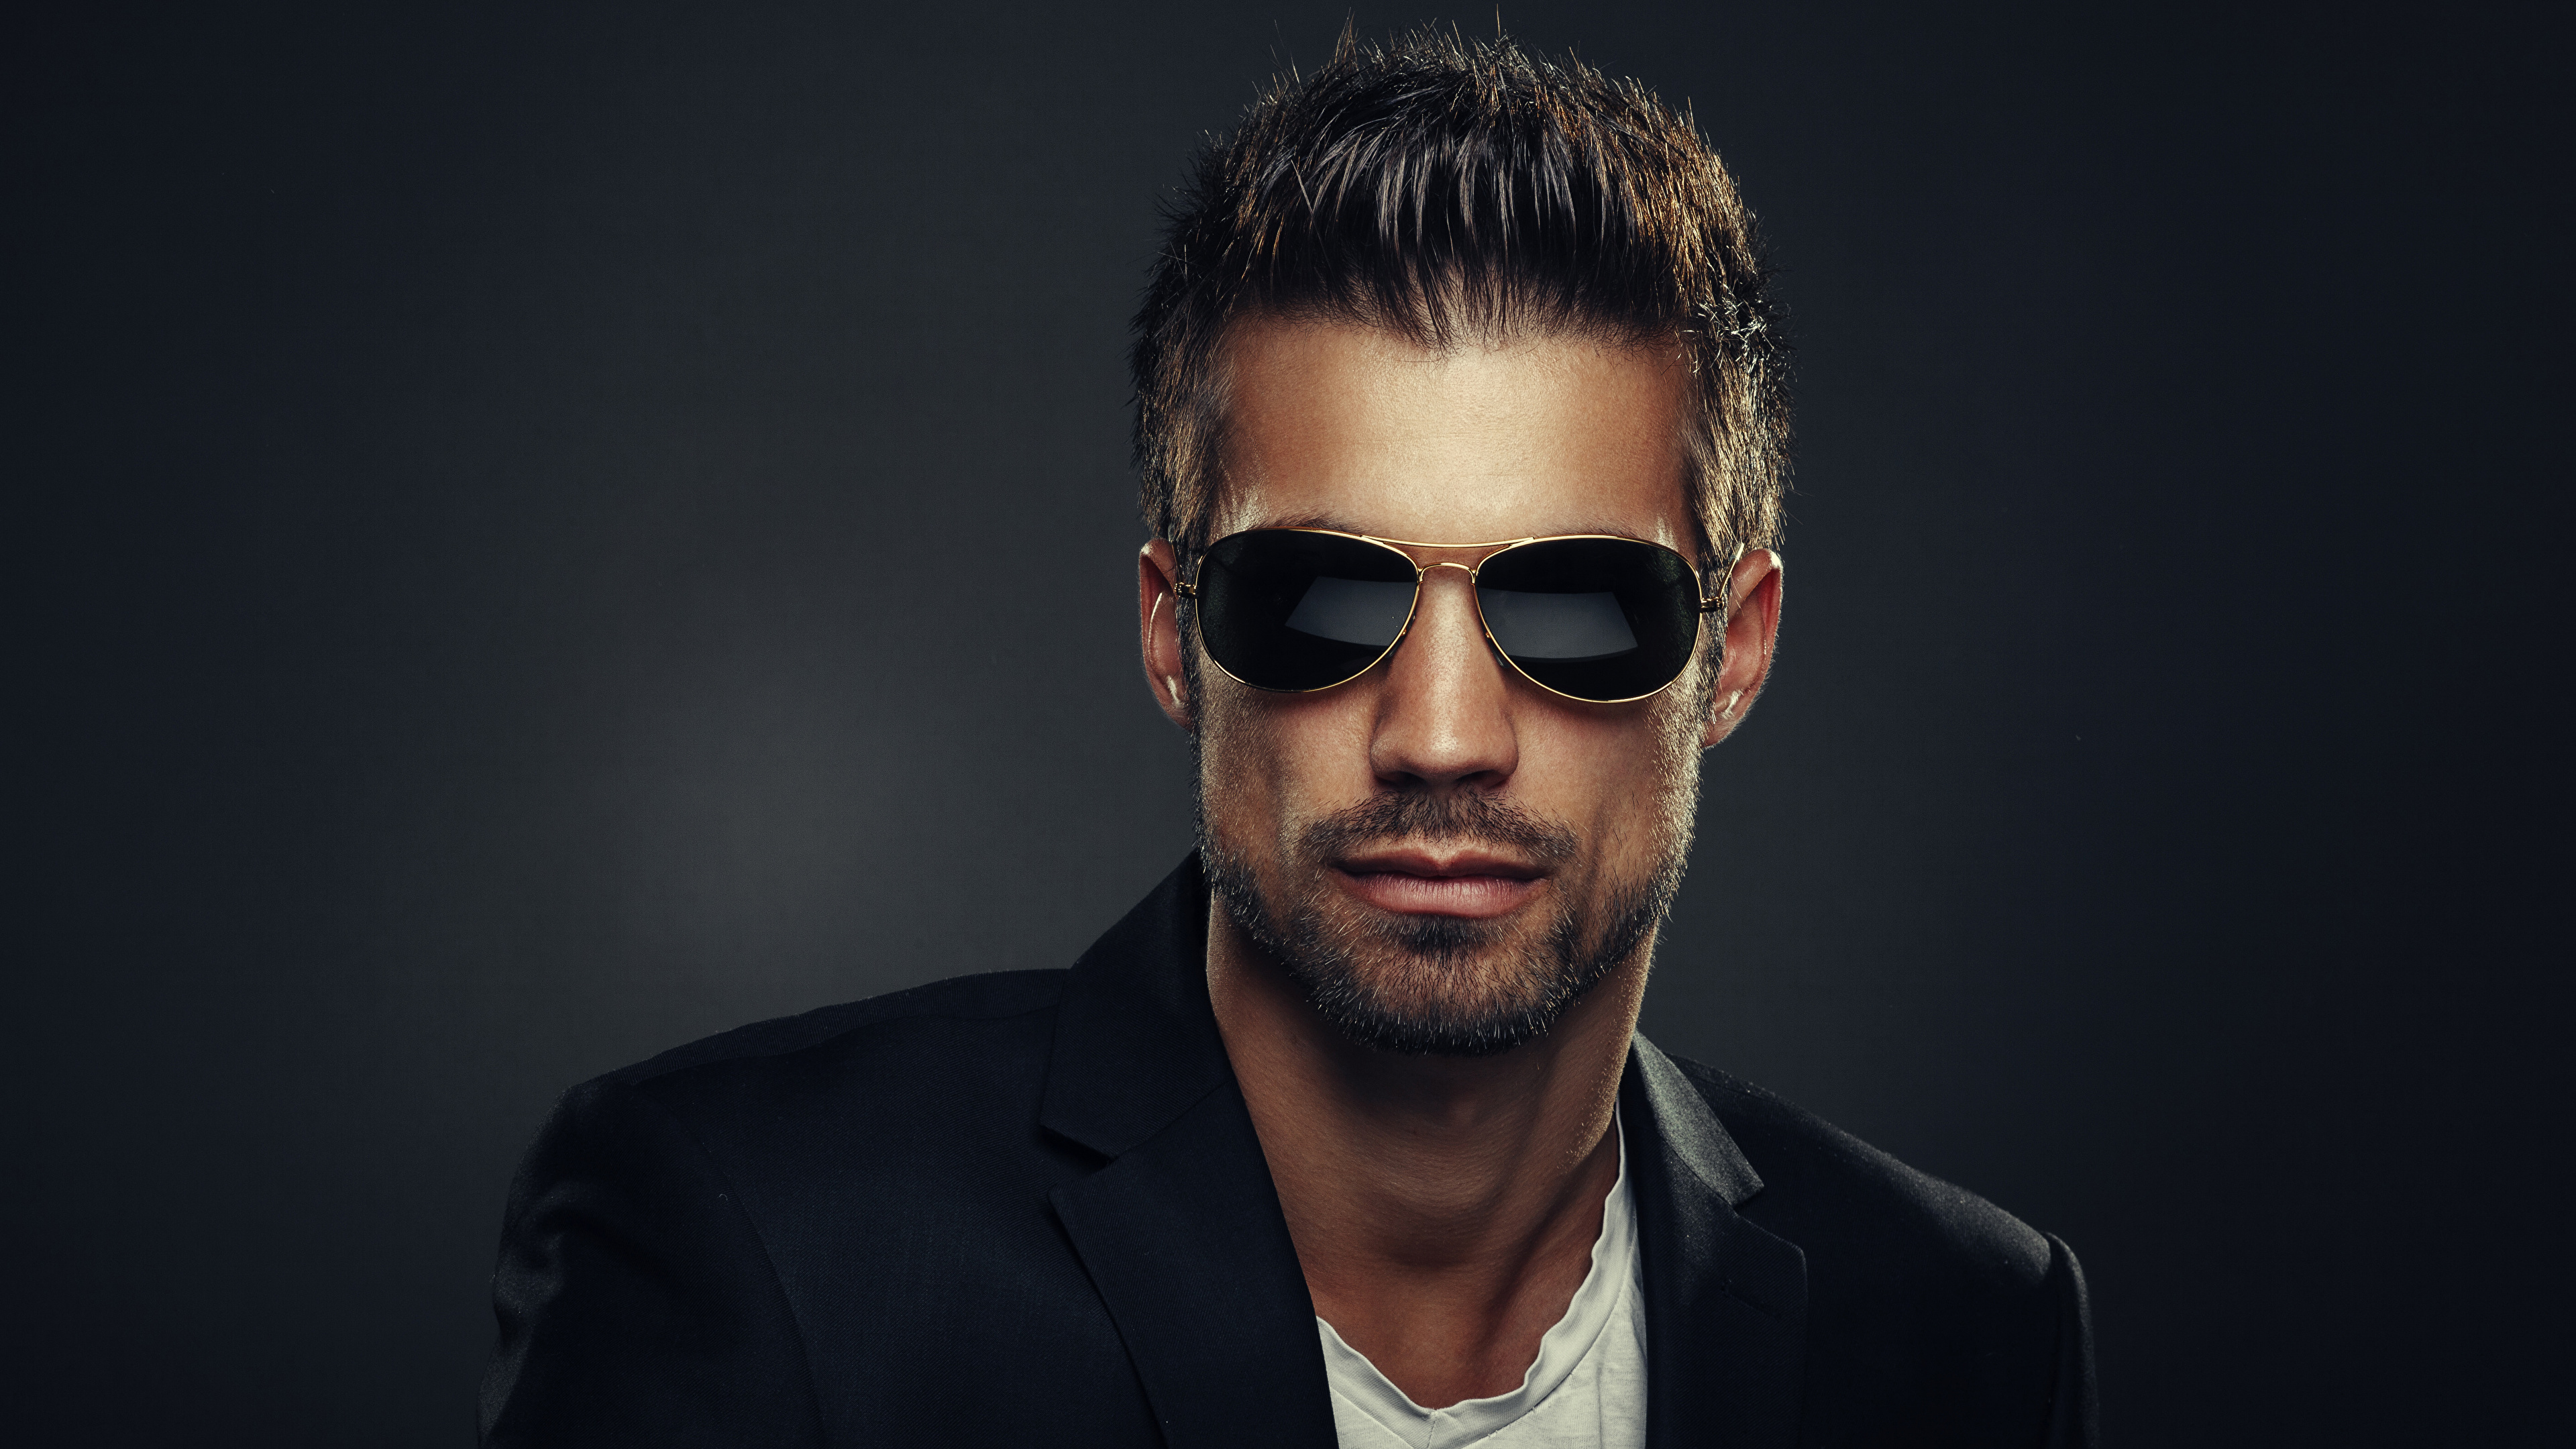glasses: (1134, 476, 1799, 748)
